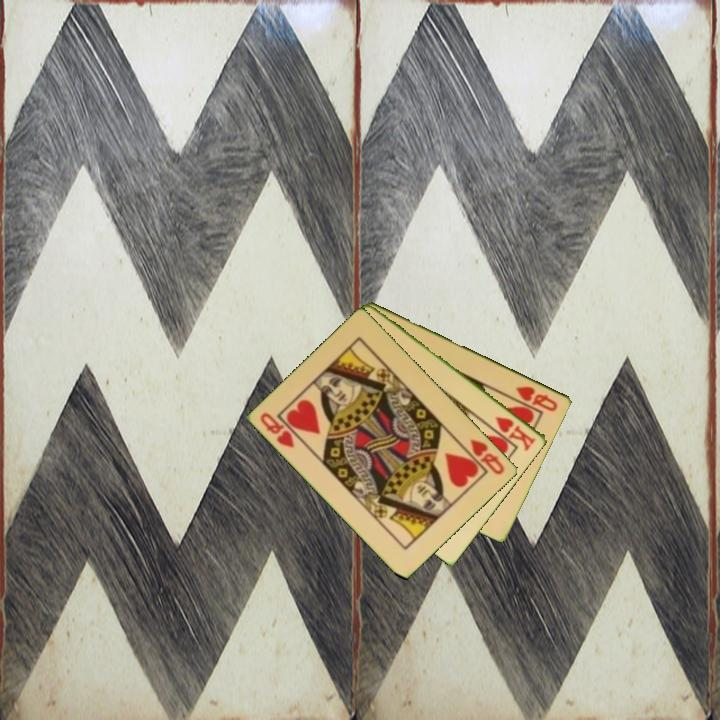Kh: (492, 412, 539, 454)
Qh: (466, 435, 508, 478), (257, 409, 298, 451), (513, 382, 561, 414)
